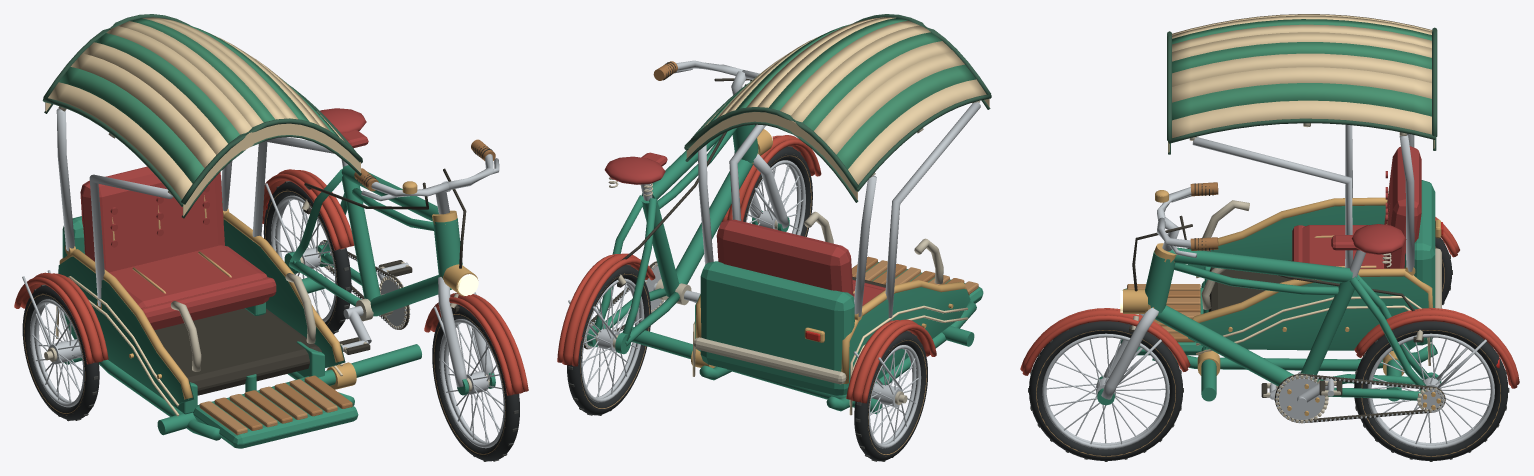
File: heritage-passenger-trishaw.glb
The picture shows the model from 3 angles, left to right: view 1: azimuth 30°, elevation 25°; view 2: azimuth 150°, elevation 25°; view 3: azimuth 270°, elevation 25°; orthographic projection. The views are drawn at different scales.
Parts seen in each view (by area): view 1: Seat and stitched upholstery | Oxblood leather upholstery, Canvas canopy and support hoops | Sand woven canvas, Passenger sidecar and step | Deep bottle green enamel, Canvas canopy and support hoops | Muted bottle green canvas , Passenger sidecar and step | Lined floor and wheel shadow, Cycle frame and rear dropouts | Deep bottle green enamel, Trim and equipment | Oxblood screw-mounted wheel skirts, Three spoked wheels | Charcoal rubber tire, Three spoked wheels | Brushed old nickel, Canvas canopy and support hoops | Brushed old nickel, Canvas canopy and support hoops | Dark canvas binding, Passenger sidecar and step | Aged warm brass (+12 smaller); view 2: Passenger sidecar and step | Deep bottle green enamel, Canvas canopy and support hoops | Sand woven canvas, Cycle frame and rear dropouts | Deep bottle green enamel, Seat and stitched upholstery | Oxblood leather upholstery, Canvas canopy and support hoops | Muted bottle green canvas , Trim and equipment | Oxblood screw-mounted wheel skirts, Three spoked wheels | Brushed old nickel, Three spoked wheels | Charcoal rubber tire, Canvas canopy and support hoops | Brushed old nickel, Canvas canopy and support hoops | Dark canvas binding, Passenger sidecar and step | Warm polished zinc, Fork and steering controls | Brushed old nickel (+10 smaller); view 3: Canvas canopy and support hoops | Sand woven canvas, Passenger sidecar and step | Deep bottle green enamel, Cycle frame and rear dropouts | Deep bottle green enamel, Three spoked wheels | Charcoal rubber tire, Canvas canopy and support hoops | Muted bottle green canvas , Three spoked wheels | Brushed old nickel, Seat and stitched upholstery | Oxblood leather upholstery, Trim and equipment | Oxblood screw-mounted wheel skirts, Canvas canopy and support hoops | Brushed old nickel, Passenger sidecar and step | Aged warm brass, Canvas canopy and support hoops | Dark canvas binding, Fork and steering controls | Brushed old nickel (+12 smaller).
Part boxes in pixels (x1,y1,x2,y2): Seat and stitched upholstery | Oxblood leather upholstery: (80,108,368,330); Canvas canopy and support hoops | Sand woven canvas: (45,17,360,216); Passenger sidecar and step | Deep bottle green enamel: (58,201,421,448); Canvas canopy and support hoops | Muted bottle green canvas : (59,18,338,183); Passenger sidecar and step | Lined floor and wheel shadow: (154,308,321,395); Cycle frame and rear dropouts | Deep bottle green enamel: (284,165,462,316); Trim and equipment | Oxblood screw-mounted wheel skirts: (14,169,528,395); Three spoked wheels | Charcoal rubber tire: (22,181,519,461); Three spoked wheels | Brushed old nickel: (30,195,504,448); Canvas canopy and support hoops | Brushed old nickel: (56,108,333,306); Canvas canopy and support hoops | Dark canvas binding: (42,14,362,218); Passenger sidecar and step | Aged warm brass: (59,212,356,399); Passenger sidecar and step | Deep bottle green enamel: (632,261,983,414); Canvas canopy and support hoops | Sand woven canvas: (686,17,989,199); Cycle frame and rear dropouts | Deep bottle green enamel: (587,124,758,354); Seat and stitched upholstery | Oxblood leather upholstery: (604,152,885,305); Canvas canopy and support hoops | Muted bottle green canvas : (708,18,975,169); Trim and equipment | Oxblood screw-mounted wheel skirts: (557,135,936,403); Three spoked wheels | Brushed old nickel: (581,160,921,448); Three spoked wheels | Charcoal rubber tire: (567,146,927,461); Canvas canopy and support hoops | Brushed old nickel: (698,102,980,321); Canvas canopy and support hoops | Dark canvas binding: (684,14,991,202); Passenger sidecar and step | Warm polished zinc: (693,211,943,384); Fork and steering controls | Brushed old nickel: (674,60,789,228); Canvas canopy and support hoops | Sand woven canvas: (1168,14,1434,152); Passenger sidecar and step | Deep bottle green enamel: (1120,180,1437,401); Cycle frame and rear dropouts | Deep bottle green enamel: (1145,247,1441,400); Three spoked wheels | Charcoal rubber tire: (1029,236,1508,460); Canvas canopy and support hoops | Muted bottle green canvas : (1172,19,1431,120); Three spoked wheels | Brushed old nickel: (1042,333,1494,449); Seat and stitched upholstery | Oxblood leather upholstery: (1292,146,1421,279); Trim and equipment | Oxblood screw-mounted wheel skirts: (1020,217,1519,388); Canvas canopy and support hoops | Brushed old nickel: (1192,124,1414,271); Passenger sidecar and step | Aged warm brass: (1192,197,1432,375); Canvas canopy and support hoops | Dark canvas binding: (1167,27,1437,154); Fork and steering controls | Brushed old nickel: (1101,187,1196,399).
Bounding box in the file's own units: 1.77 × 1.78 × 2.24.
